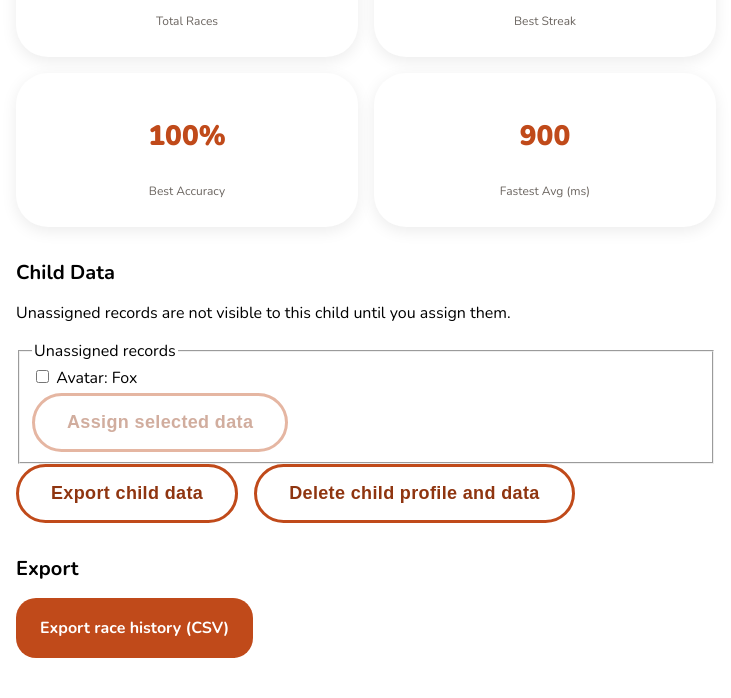
Scenario: ParentDashboardPage › lets the parent assign selected legacy records to the active child
(page scrolled)
Click the checkbox labelled "Avatar: Fox": (42, 377) [36, 370, 49, 383]
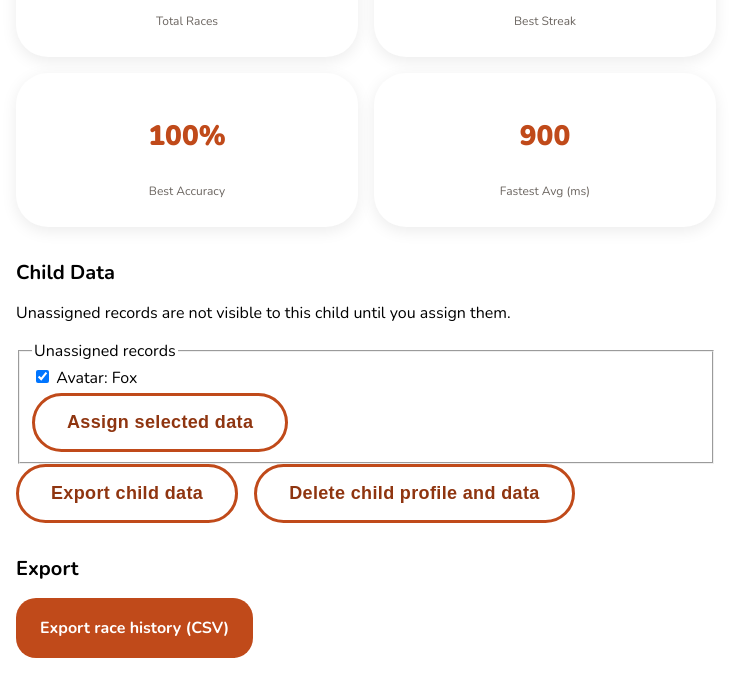
Click the button "Assign selected data": (160, 423) [32, 393, 288, 452]
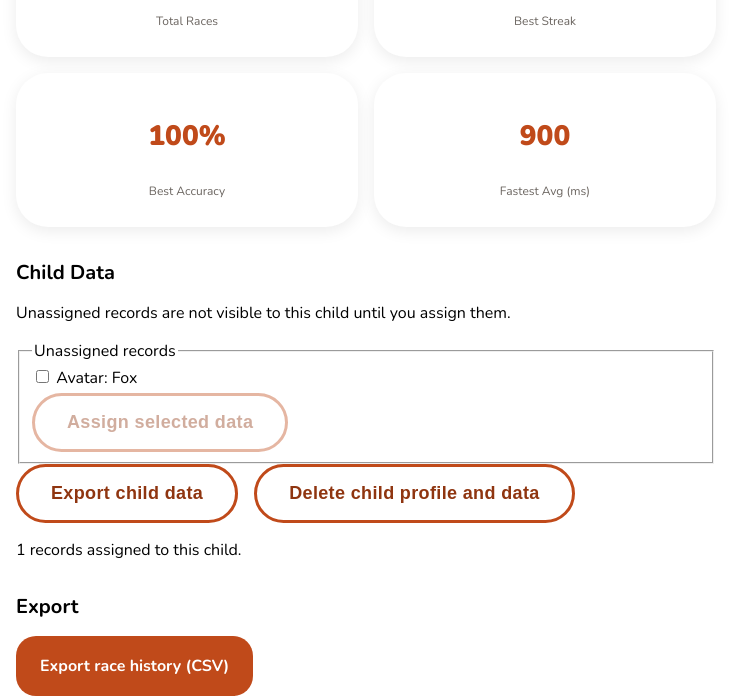
Check: the message shows "1 records assigned", box [16, 539, 242, 561]
